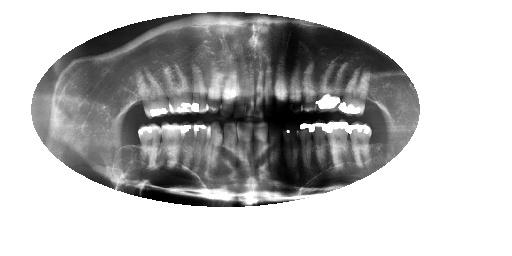i10decay: (266, 55, 275, 105)
i11healthy: (276, 55, 288, 105)
i12healthy: (289, 56, 304, 104)
i13chipped: (301, 57, 316, 111)
i14healthy: (315, 55, 349, 109)
i15healthy: (337, 63, 372, 115)
i2healthy: (135, 65, 172, 119)
i3healthy: (164, 63, 194, 114)
i4healthy: (189, 63, 209, 112)
i5healthy: (207, 64, 220, 114)
i6healthy: (221, 65, 233, 117)
i7decay: (234, 62, 244, 119)
i8decay: (245, 54, 253, 118)
i9decay: (254, 55, 265, 118)
u10decay: (270, 121, 282, 183)
u11decay: (281, 121, 299, 184)
u12healthy: (299, 121, 315, 176)
u13healthy: (313, 122, 327, 177)
u14healthy: (325, 120, 351, 171)
u15healthy: (347, 118, 374, 168)
u2healthy: (136, 123, 163, 173)
u3healthy: (159, 121, 184, 170)
u4healthy: (181, 122, 197, 172)
u5healthy: (194, 121, 210, 179)
u6healthy: (210, 121, 225, 182)
u7healthy: (224, 121, 237, 178)
u8healthy: (236, 121, 253, 178)
u9healthy: (253, 120, 269, 183)
